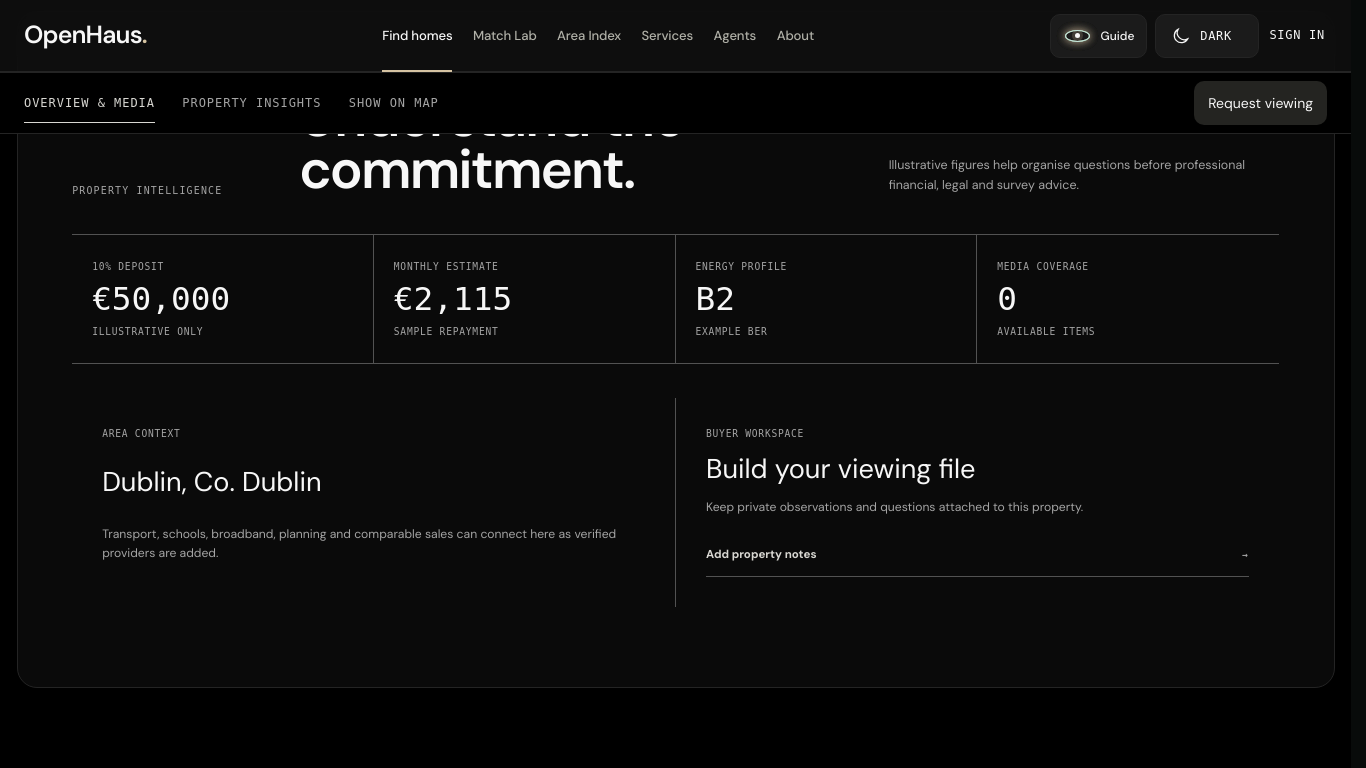
Scenario: keeps the draft and dialog open when browser storage rejects a save, then allows retry
(page scrolled)
Click the button "Add property notes →" at {"x": 761, "y": 555}, box [706, 533, 1249, 577]
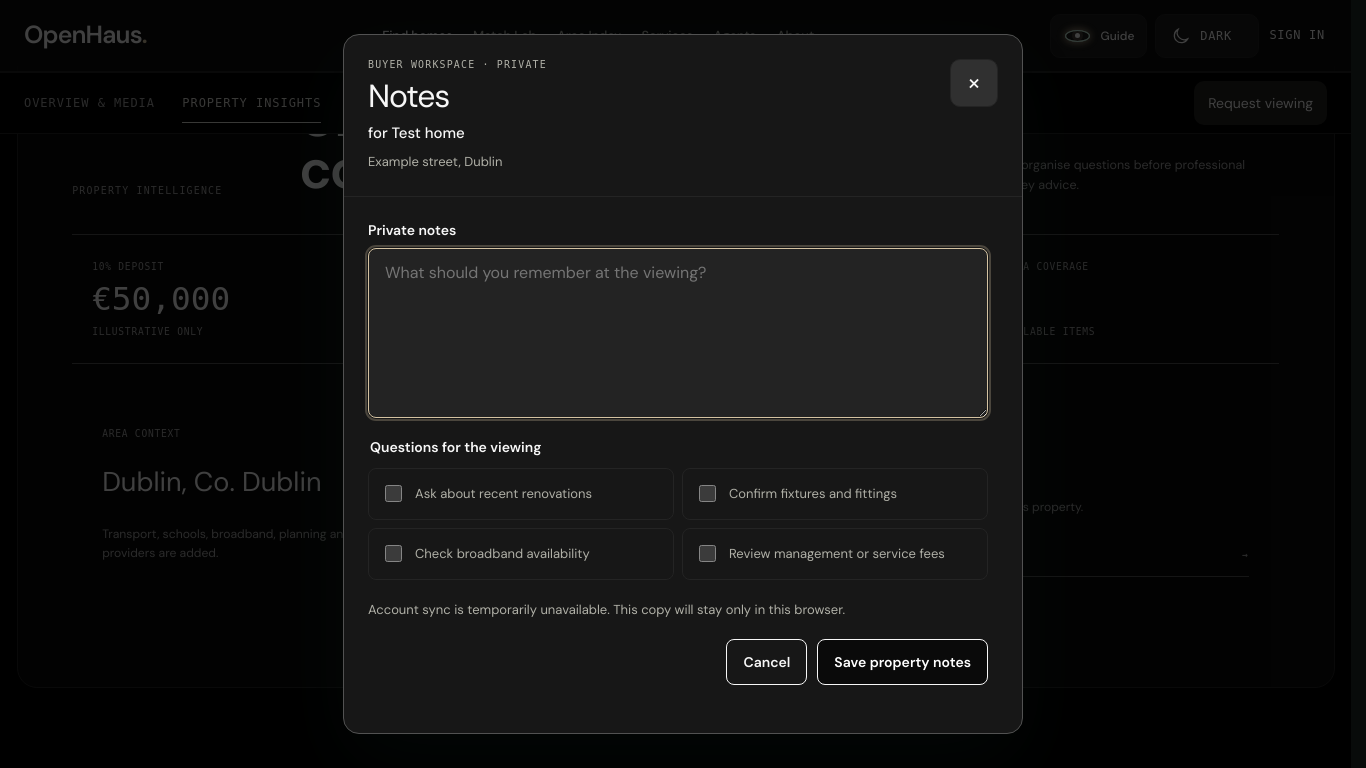
Type "Check the garden." into the text box labelled "Private notes" at {"x": 678, "y": 333}, box [368, 248, 988, 418]
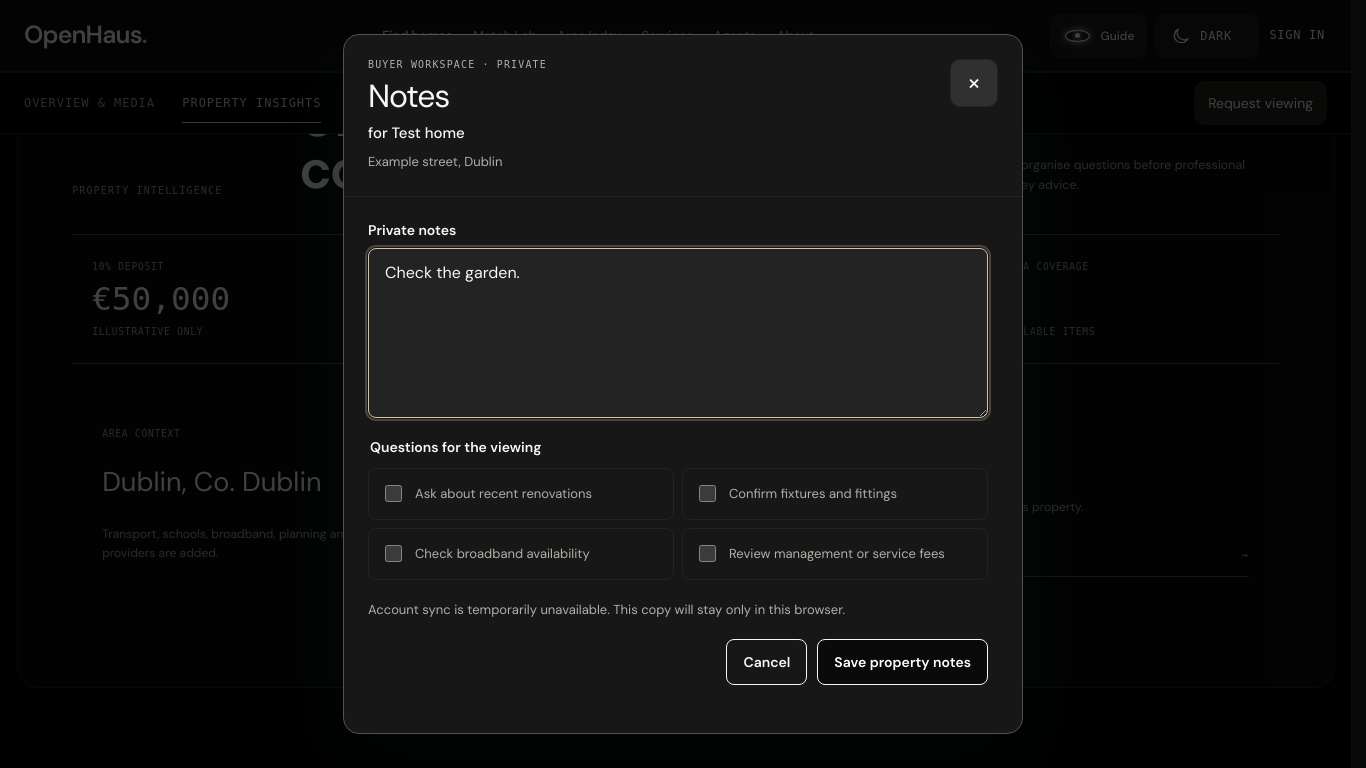
Click the button "Save property notes" at {"x": 903, "y": 662}, box [817, 639, 988, 685]
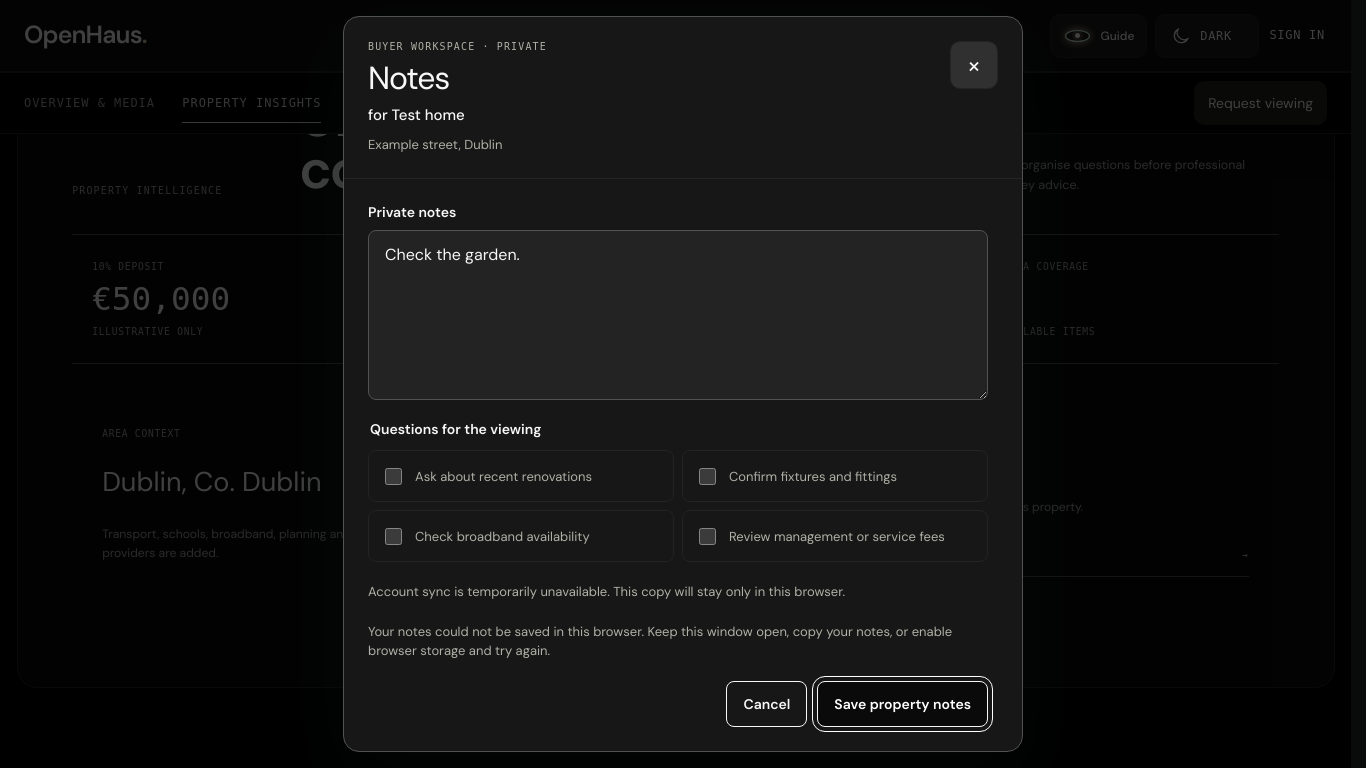
Result: the message shows "could not be saved" at [368, 622, 952, 659]
Click the button "Save property notes" at {"x": 903, "y": 704}, box [817, 680, 988, 726]
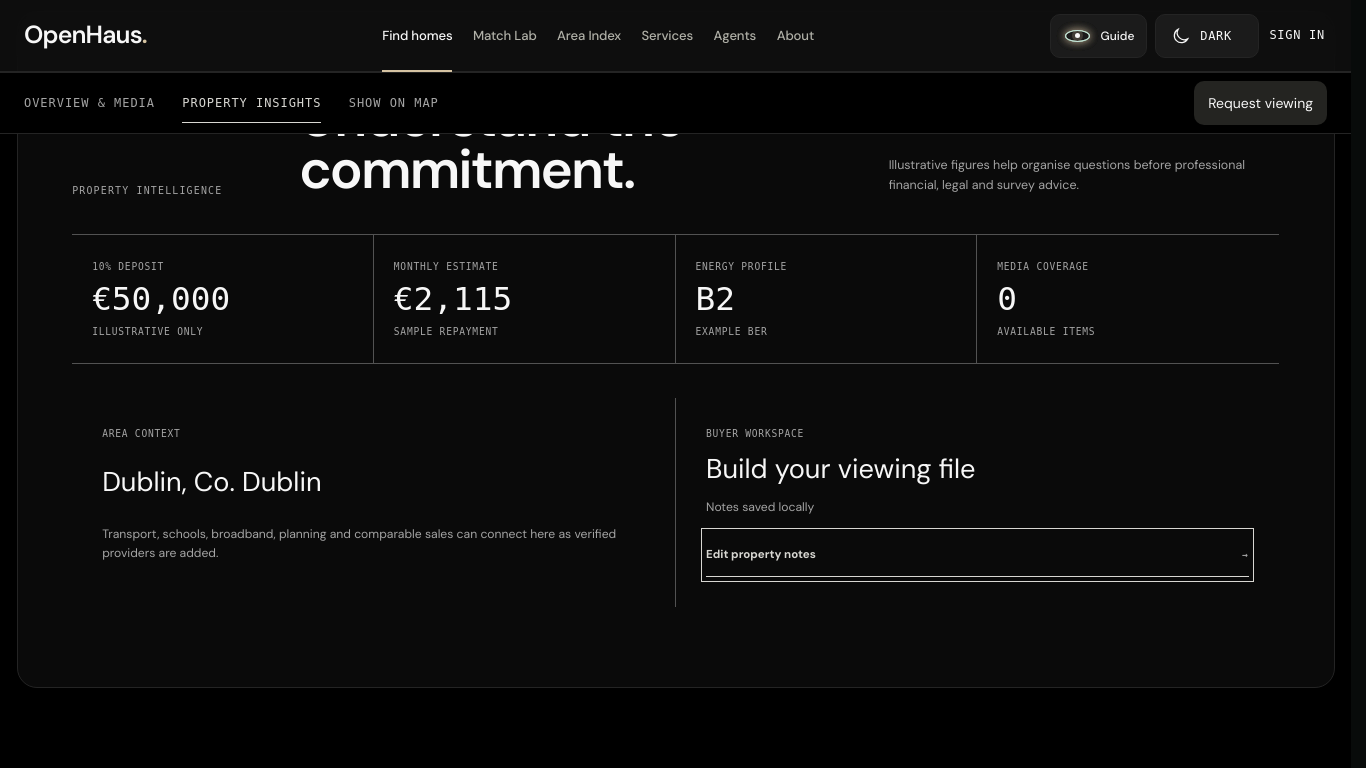
Result: the dialog is gone
Result: the text "Notes saved locally" is shown at [706, 499, 814, 515]
